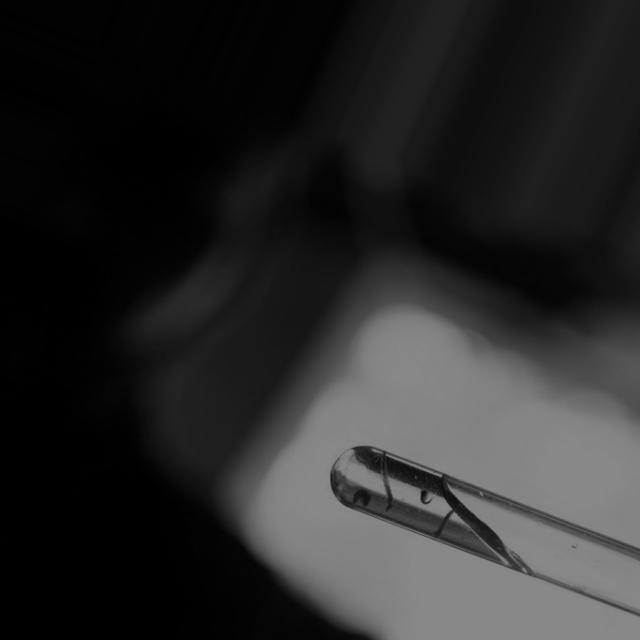larvas: (380, 452, 392, 507), (435, 505, 454, 538), (355, 492, 371, 507), (420, 489, 436, 502)
